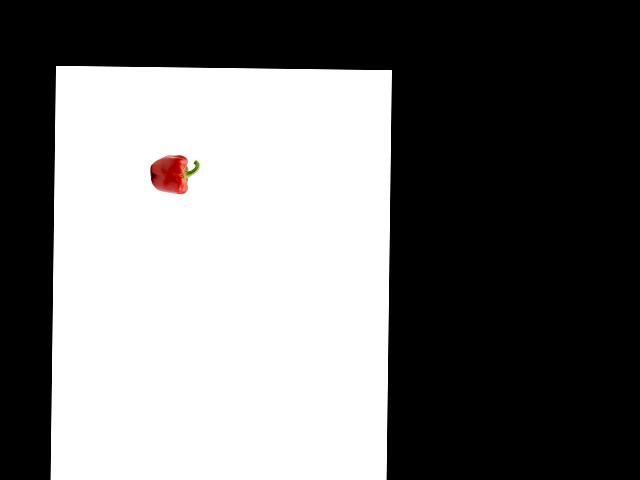bell_pepper: (148, 151, 200, 197)
